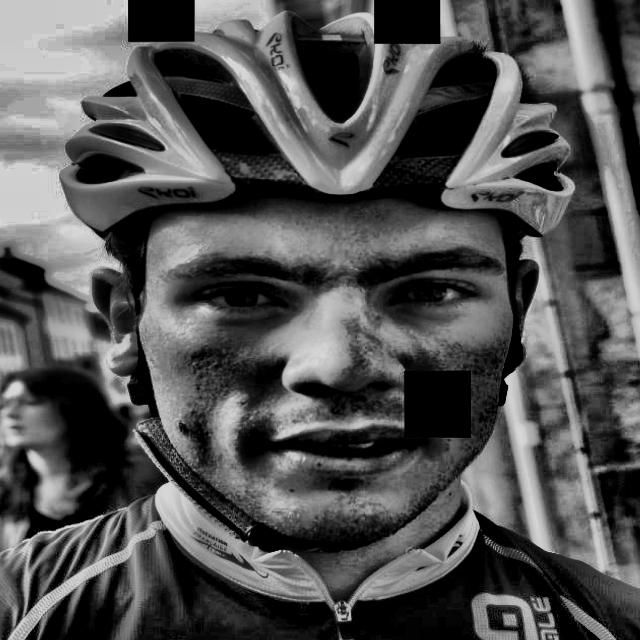Helmet: (55, 0, 569, 568)
